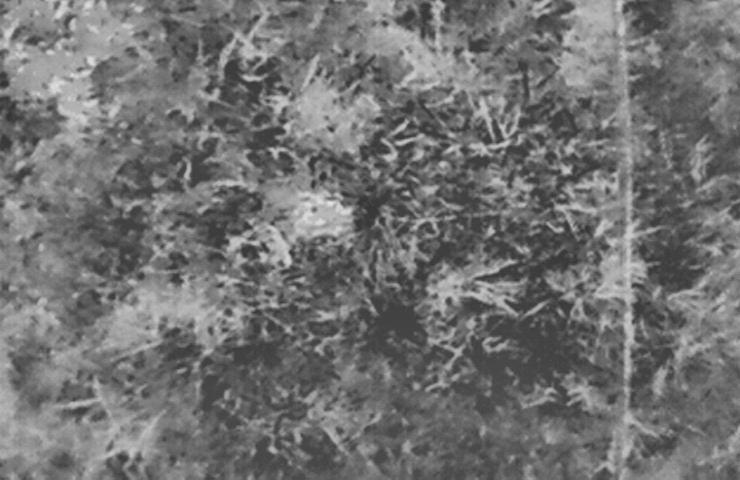landmines: (295, 190, 358, 244)
